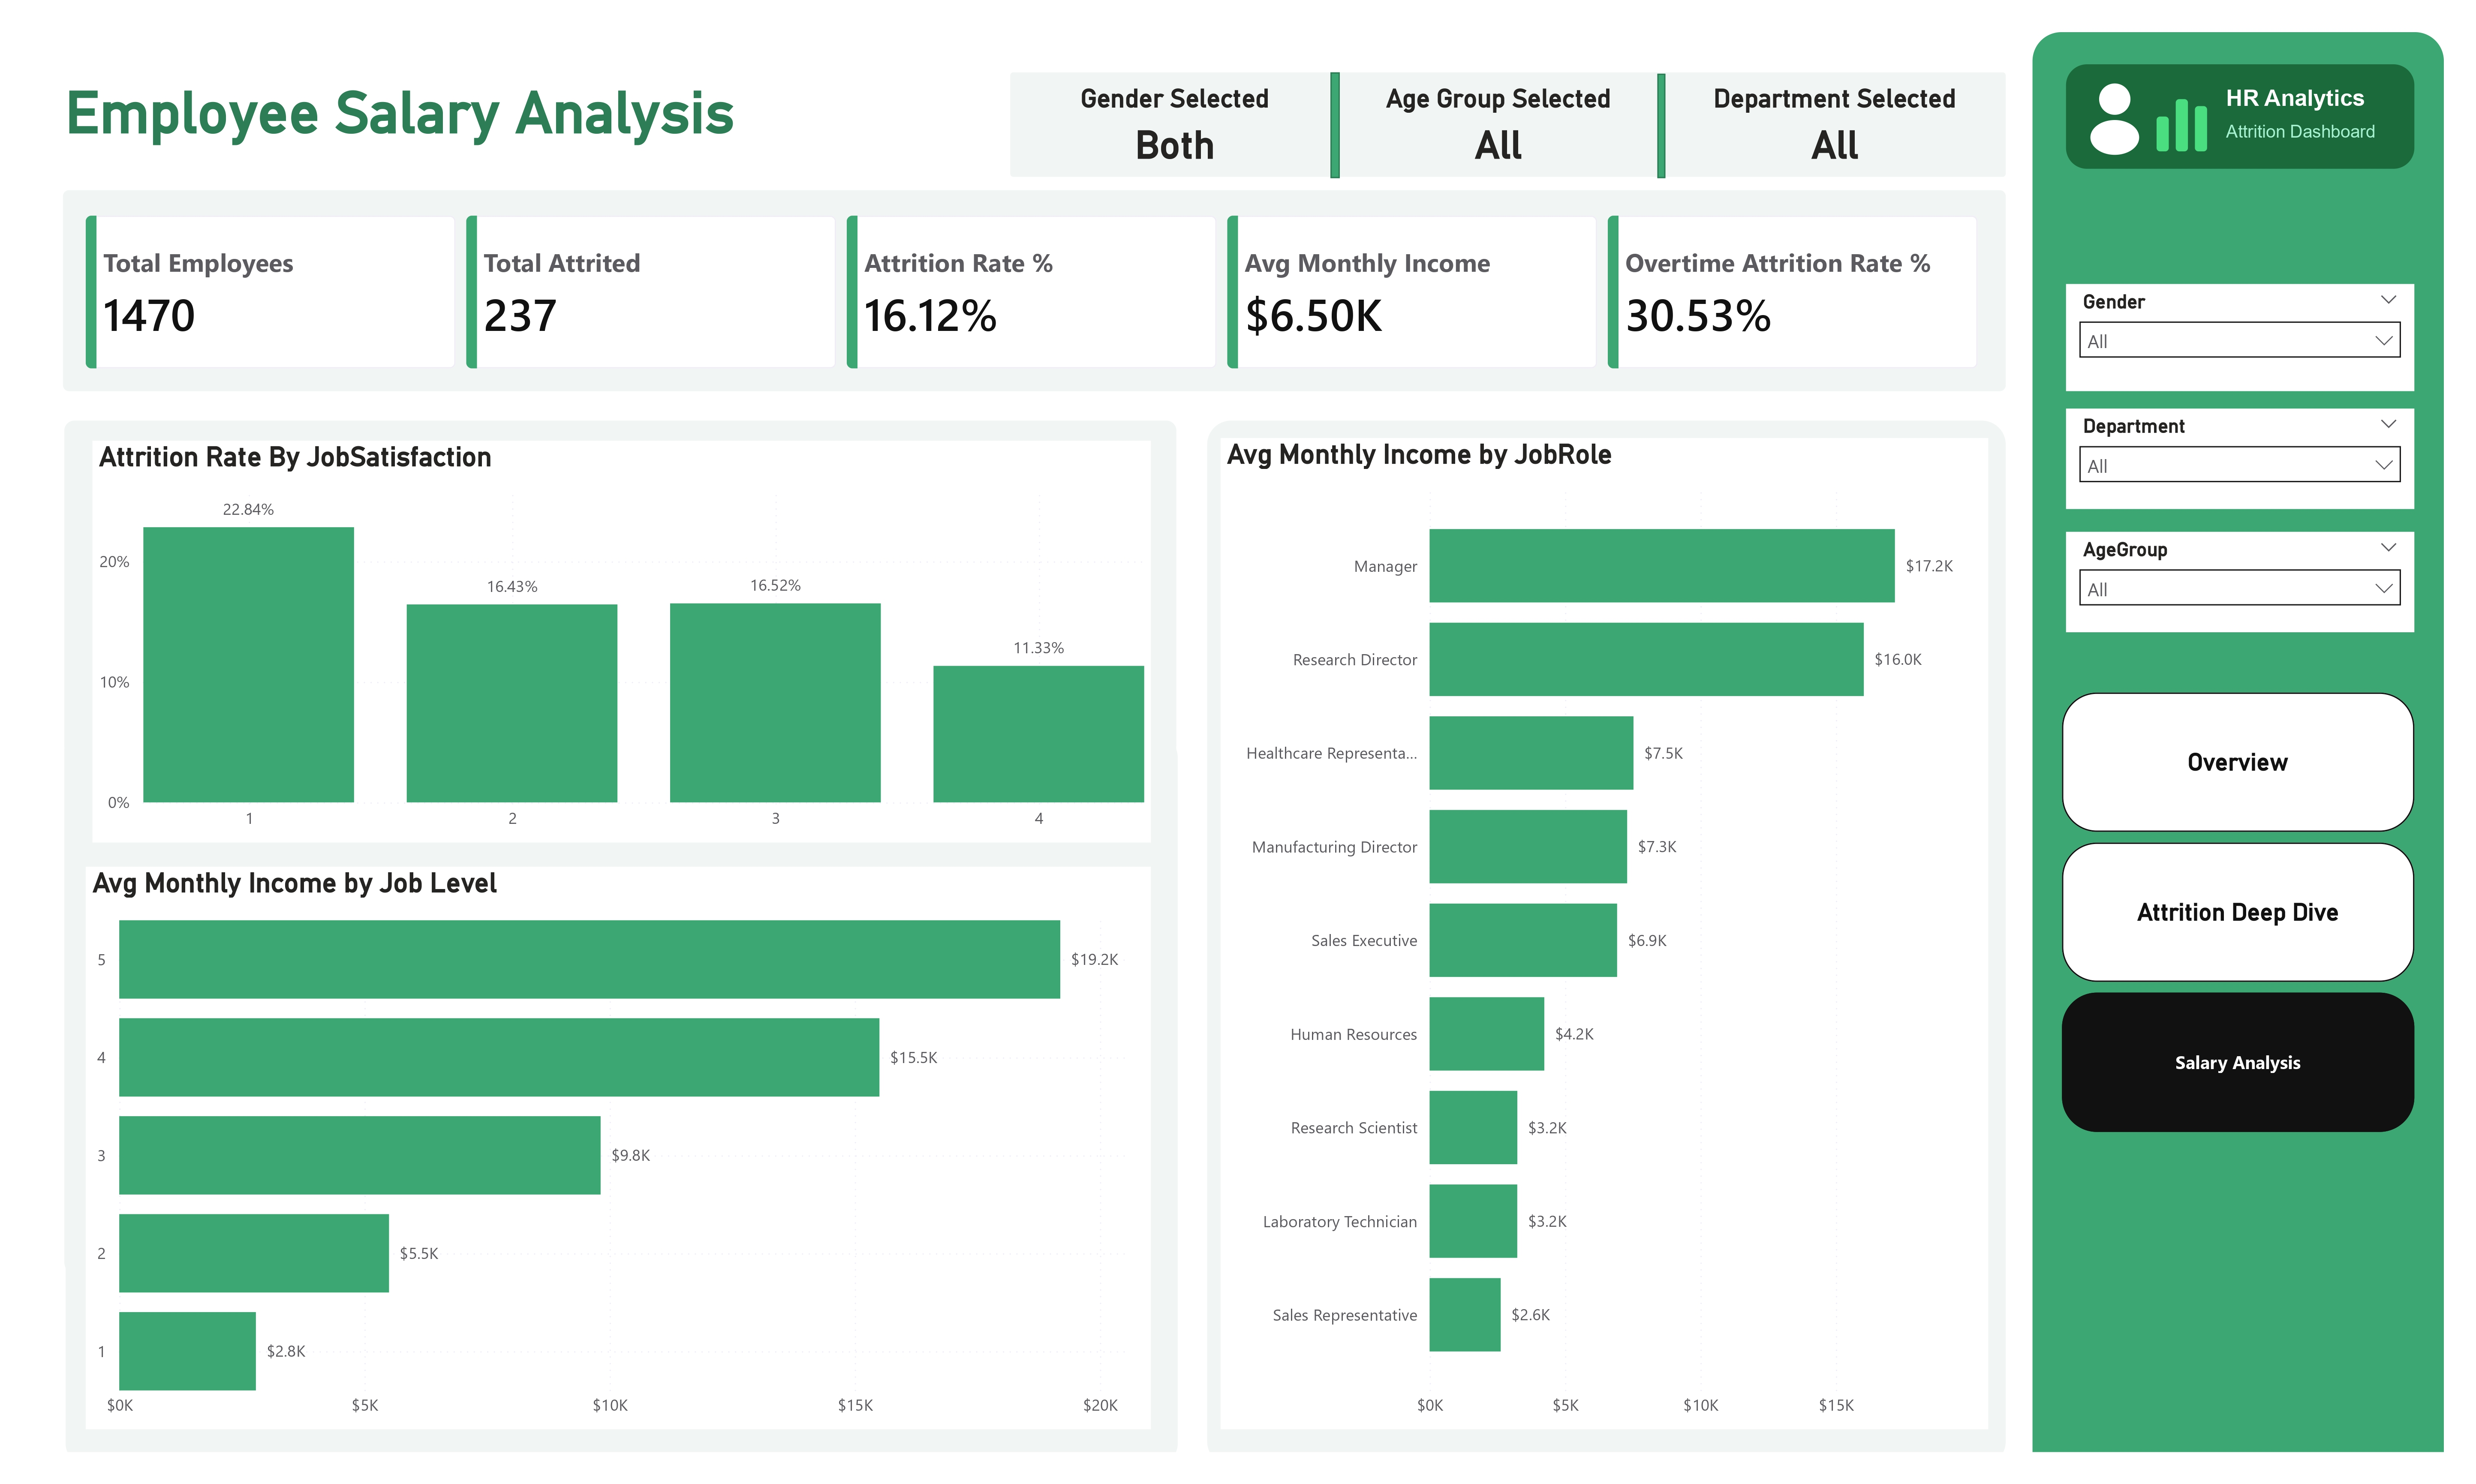

The dashboard page shown, as its layout file describes it:
{"tool":"powerbi","page":{"name":" Salary Analysis","canvas":[1800,1060],"ordinal":2},"visuals":[{"type":"shape","box":[24,290,830,250],"z":0},{"type":"shape","box":[24,524,830,406],"z":1000},{"type":"shape","box":[730,30,742.5,77.5],"z":2000},{"type":"shape","box":[1493.3,0,306.7,1100],"z":3000},{"type":"shape","box":[23,118,1450,150],"z":4000},{"type":"slicer","fields":{"Values":["AgeGroup.AgeGroup"]},"box":[1517.5,372.5,260,75],"z":5000},{"type":"slicer","fields":{"Values":["Department.Department"]},"box":[1517.5,281.2,260,75],"z":6000},{"type":"cardVisual","fields":{"Data":["Mesures Table.Total Employees","Mesures Table.Total Attrited","Mesures Table.Attrition Rate %","Mesures Table.Avg Monthly Income","Mesures Table.Overtime Attrition Rate %"]},"box":[23,120,1450,148],"z":7000},{"type":"textbox","box":[20,30,710,90],"z":8000},{"type":"card","title":"Gender Selected","fields":{"Values":["Mesures Table.Sel_Gender"]},"box":[730,37.5,246.2,70],"z":9000},{"type":"card","title":"Age Group Selected","fields":{"Values":["Mesures Table.Sel_AgeGroup"]},"box":[976.2,37.5,236.2,70],"z":10000},{"type":"card","title":"Department Selected ","fields":{"Values":["Mesures Table.Department"]},"box":[1218.3,38.3,255,70],"z":11000},{"type":"pageNavigator","title":"Page Navigator","box":[1515,492.5,262.5,330],"z":12000},{"type":"shape","box":[1212.9,31.4,5.7,77.1],"z":13000},{"type":"shape","box":[968.6,30,7.1,78.6],"z":14000},{"type":"slicer","title":"Gender","fields":{"Values":["Employees.Gender"]},"box":[1518,188,260,80],"z":15000},{"type":"shape","box":[876.7,290,596.7,780],"z":16000},{"type":"shape","box":[25,525,830,545],"z":17000},{"type":"clusteredBarChart","fields":{"Category":["Jobrole.JobRole"],"Y":["Mesures Table.Avg Monthly Income"]},"box":[886.7,303.3,573.3,740],"z":18000},{"type":"barChart","fields":{"Category":["Employees.JobLevel"],"Y":["Mesures Table.Avg Monthly Income"]},"box":[40,622.5,795,420],"z":19000},{"type":"columnChart","title":"Attrition Rate By JobSatisfaction","fields":{"Category":["Employees.JobSatisfaction"],"Y":["Mesures Table.Attrition Rate %"]},"box":[45,305,790,300],"z":20000},{"type":"image","box":[1517.6,0,260.2,125.5],"z":21000}]}

Visuals, with their boxes on the page's 1800x1060 design canvas (x1, y1, x2, y2). These are canvas units, not pixel positions in the 2476x1484 screenshot, which may show the page scaled, cropped or inside an application window:
shape: x1=24, y1=290, x2=854, y2=540
shape: x1=24, y1=524, x2=854, y2=930
shape: x1=730, y1=30, x2=1472, y2=108
shape: x1=1493, y1=0, x2=1800, y2=1100
shape: x1=23, y1=118, x2=1473, y2=268
slicer - AgeGroup.AgeGroup: x1=1518, y1=372, x2=1778, y2=448
slicer - Department.Department: x1=1518, y1=281, x2=1778, y2=356
cardVisual - Mesures Table.Total Employees x Mesures Table.Total Attrited: x1=23, y1=120, x2=1473, y2=268
textbox: x1=20, y1=30, x2=730, y2=120
"Gender Selected" card: x1=730, y1=38, x2=976, y2=108
"Age Group Selected" card: x1=976, y1=38, x2=1212, y2=108
"Department Selected " card: x1=1218, y1=38, x2=1473, y2=108
"Page Navigator" pageNavigator: x1=1515, y1=492, x2=1778, y2=822
shape: x1=1213, y1=31, x2=1219, y2=108
shape: x1=969, y1=30, x2=976, y2=109
"Gender" slicer: x1=1518, y1=188, x2=1778, y2=268
shape: x1=877, y1=290, x2=1473, y2=1070
shape: x1=25, y1=525, x2=855, y2=1070
clusteredBarChart - Jobrole.JobRole x Mesures Table.Avg Monthly Income: x1=887, y1=303, x2=1460, y2=1043
barChart - Employees.JobLevel x Mesures Table.Avg Monthly Income: x1=40, y1=622, x2=835, y2=1042
"Attrition Rate By JobSatisfaction" columnChart: x1=45, y1=305, x2=835, y2=605
image: x1=1518, y1=0, x2=1778, y2=126
